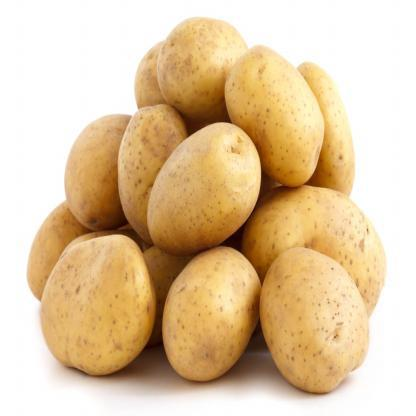potato: (31, 222, 170, 382), (144, 112, 263, 255), (254, 257, 380, 388), (162, 233, 262, 384), (233, 38, 327, 191), (116, 101, 204, 242), (66, 109, 154, 239), (159, 18, 261, 124)
